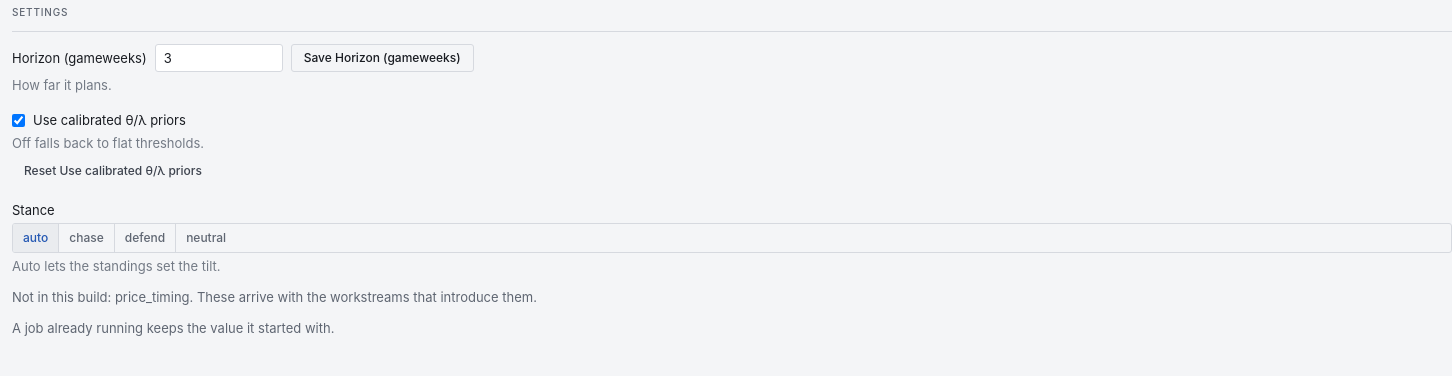
Test: SettingsTab › shows the refusal beside the field that caused it
The width and height of the screenshot is (1452, 376).
Replace the text in the number field labelled "Horizon (gameweeks)" with "9": x=219, y=58 x1=155 y1=44 x2=283 y2=72
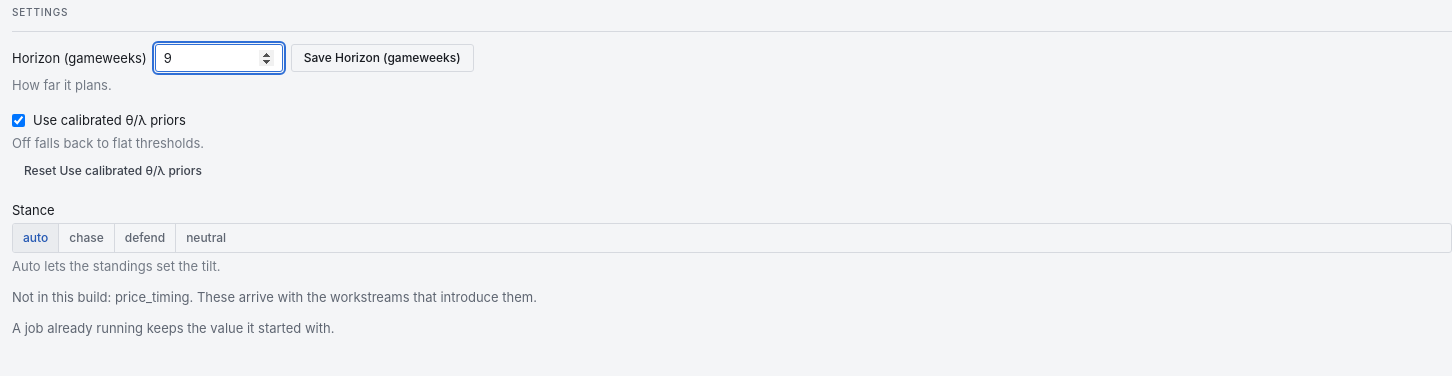
Click the button "Save Horizon (gameweeks)": x=382, y=58 x1=291 y1=44 x2=474 y2=72
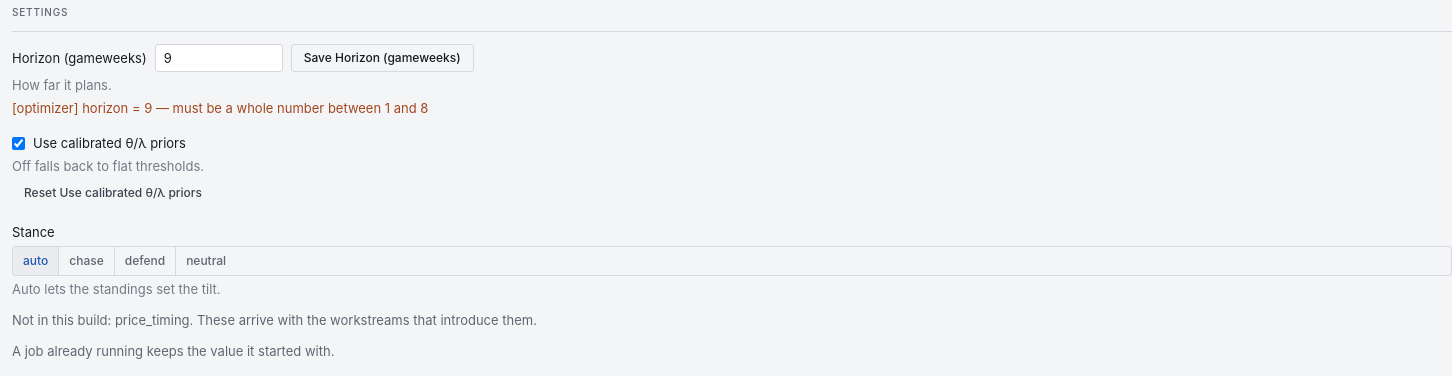
expect the message with test id "settings-error-horizon" shows "between 1 and 8": met, box x1=12 y1=100 x2=428 y2=116
